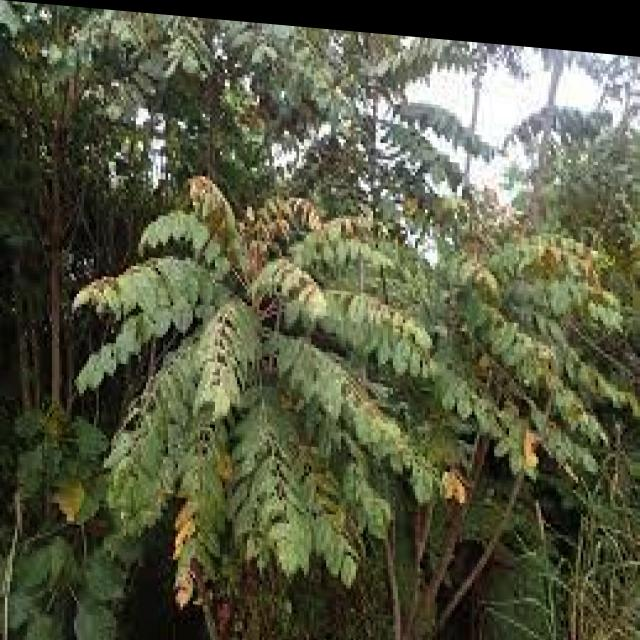Polyscias fulva: (80, 145, 598, 640)
